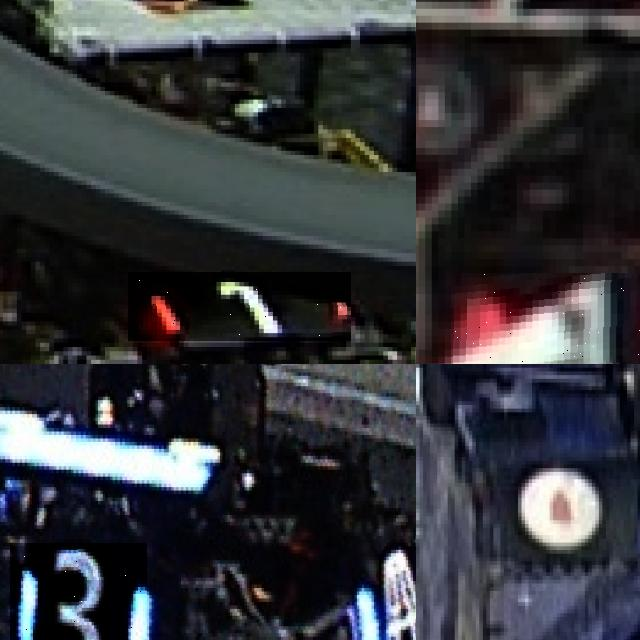B3: (10, 543, 147, 640)
R1: (451, 273, 640, 364), (128, 272, 351, 341)
